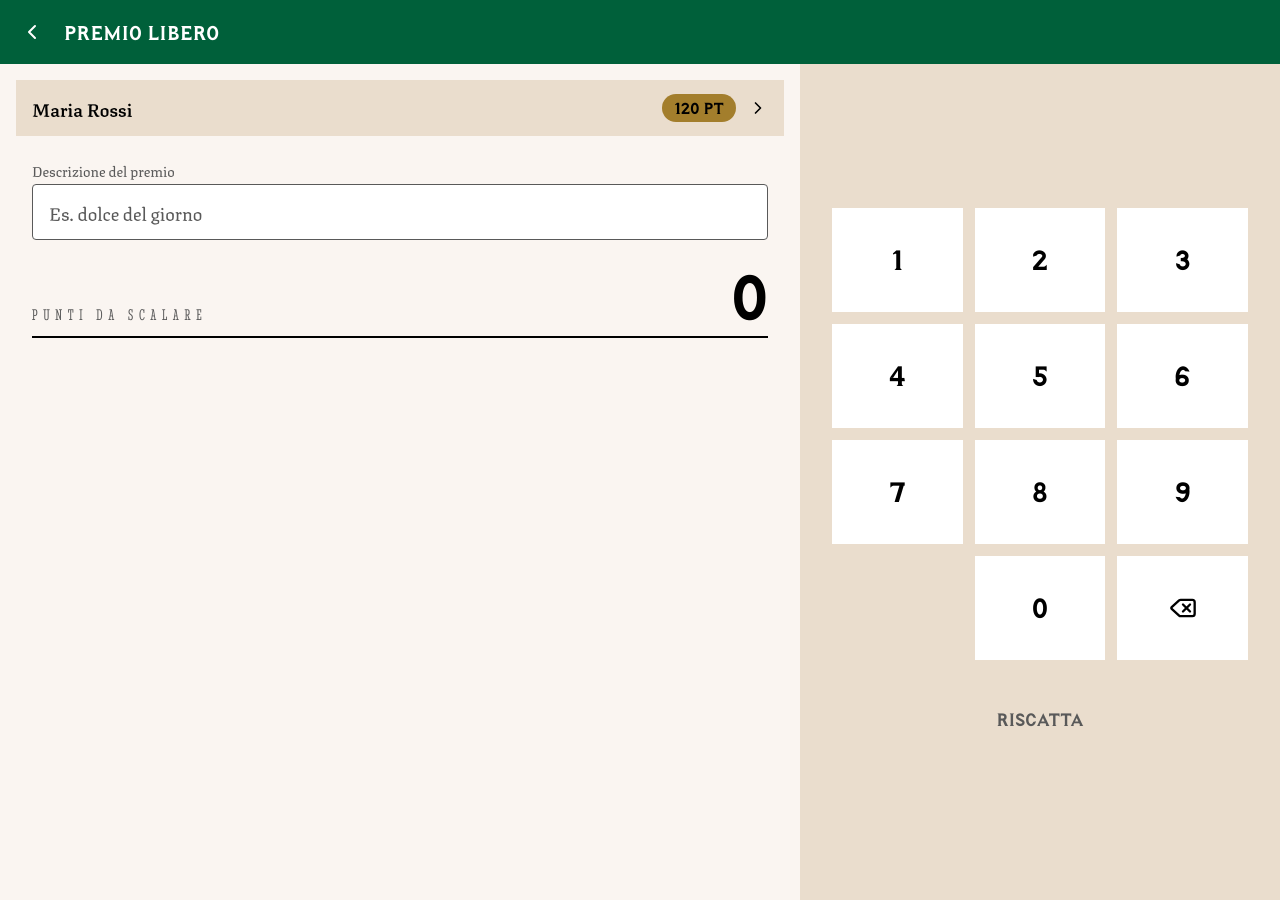
Test: FreeRewardForm: Premio libero › "Riscatta N punti" sends the trimmed description and the points once
This screenshot has width=1280, height=900.
Type "  Dolce del giorno  " into the field labelled "Descrizione del premio" at (400, 212), box [32,184,768,240]
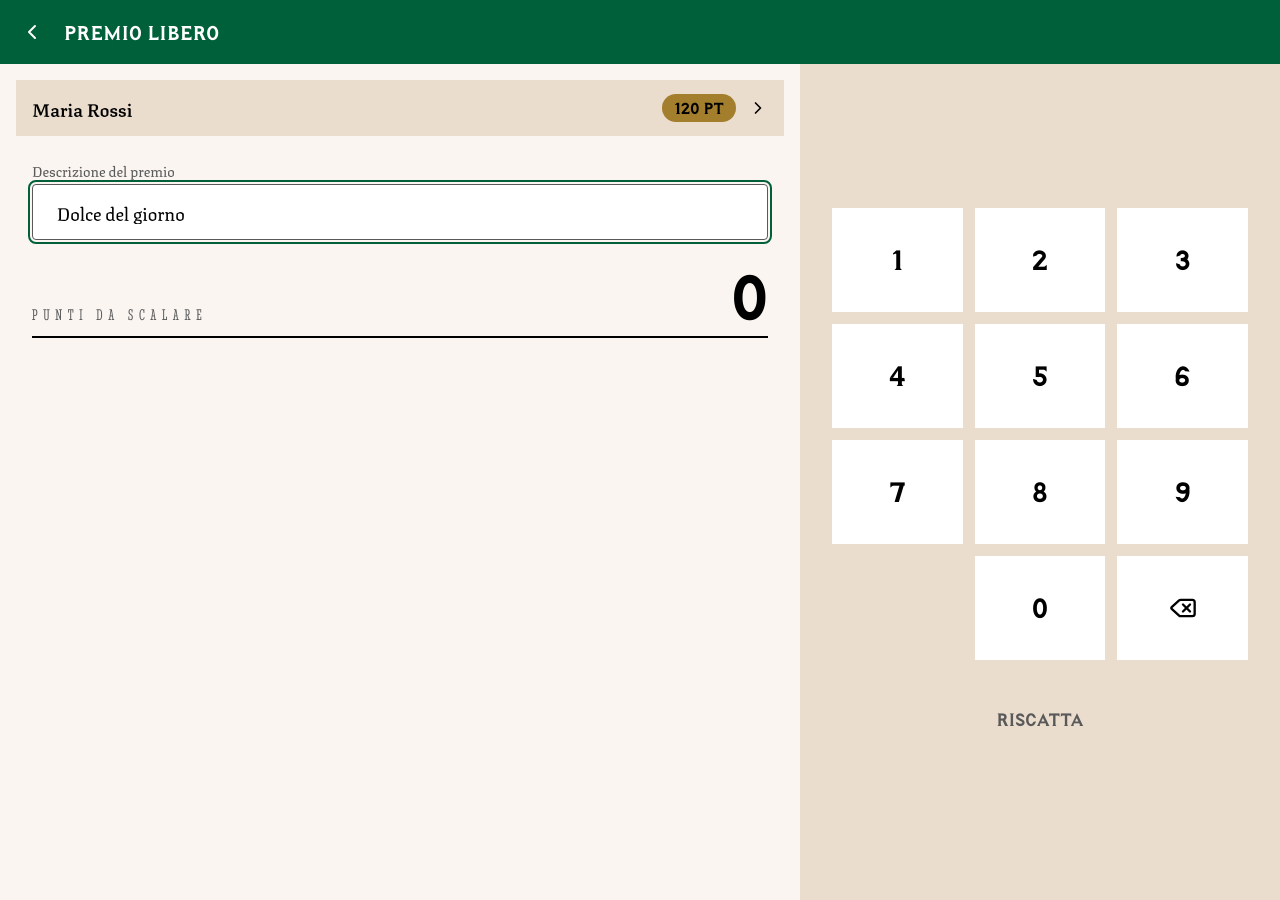
Click the button "1" at (897, 260), box [832,208,963,312]
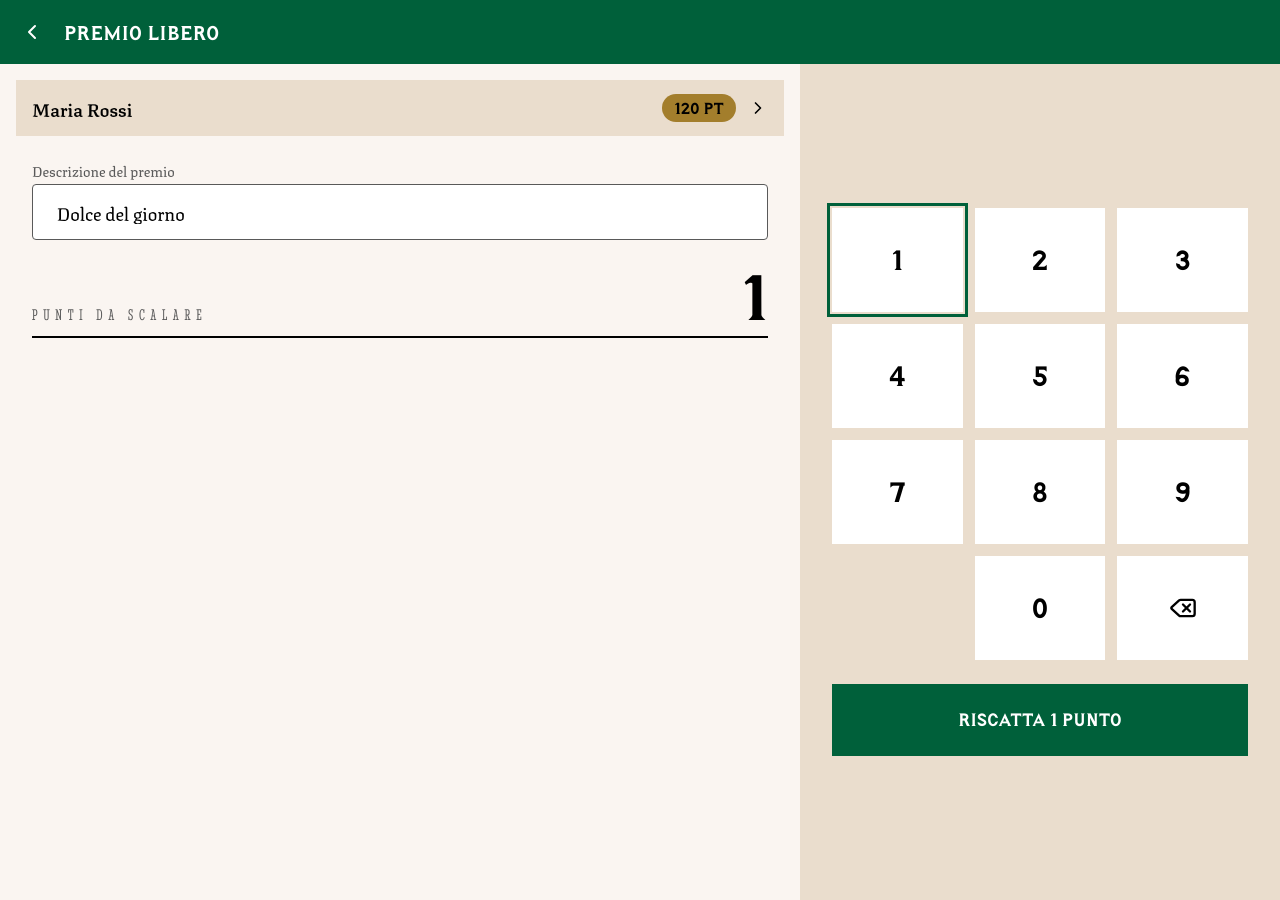
Click the button "0" at (1040, 608), box [975,556,1105,660]
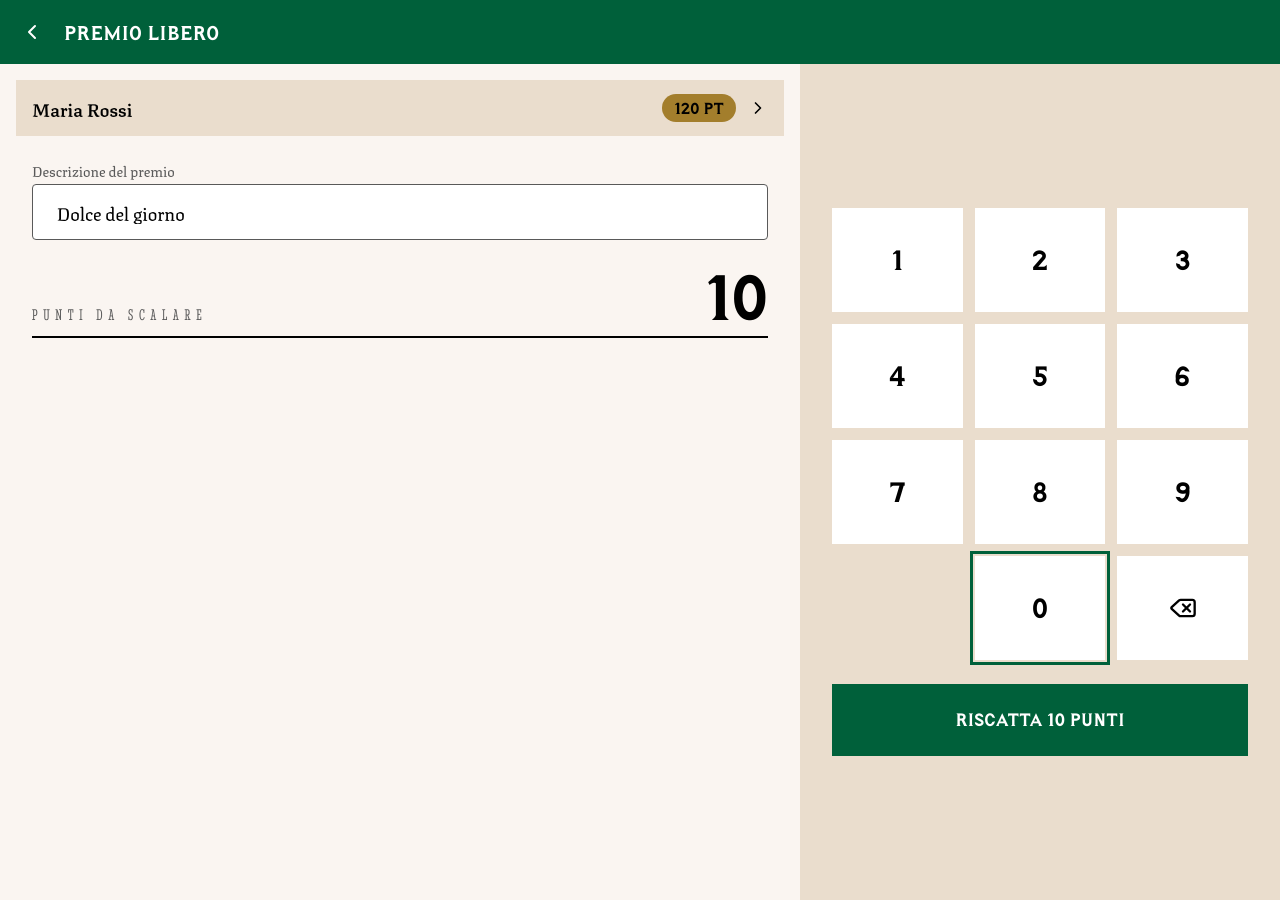
Click the button "0" at (1040, 608), box [975,556,1105,660]
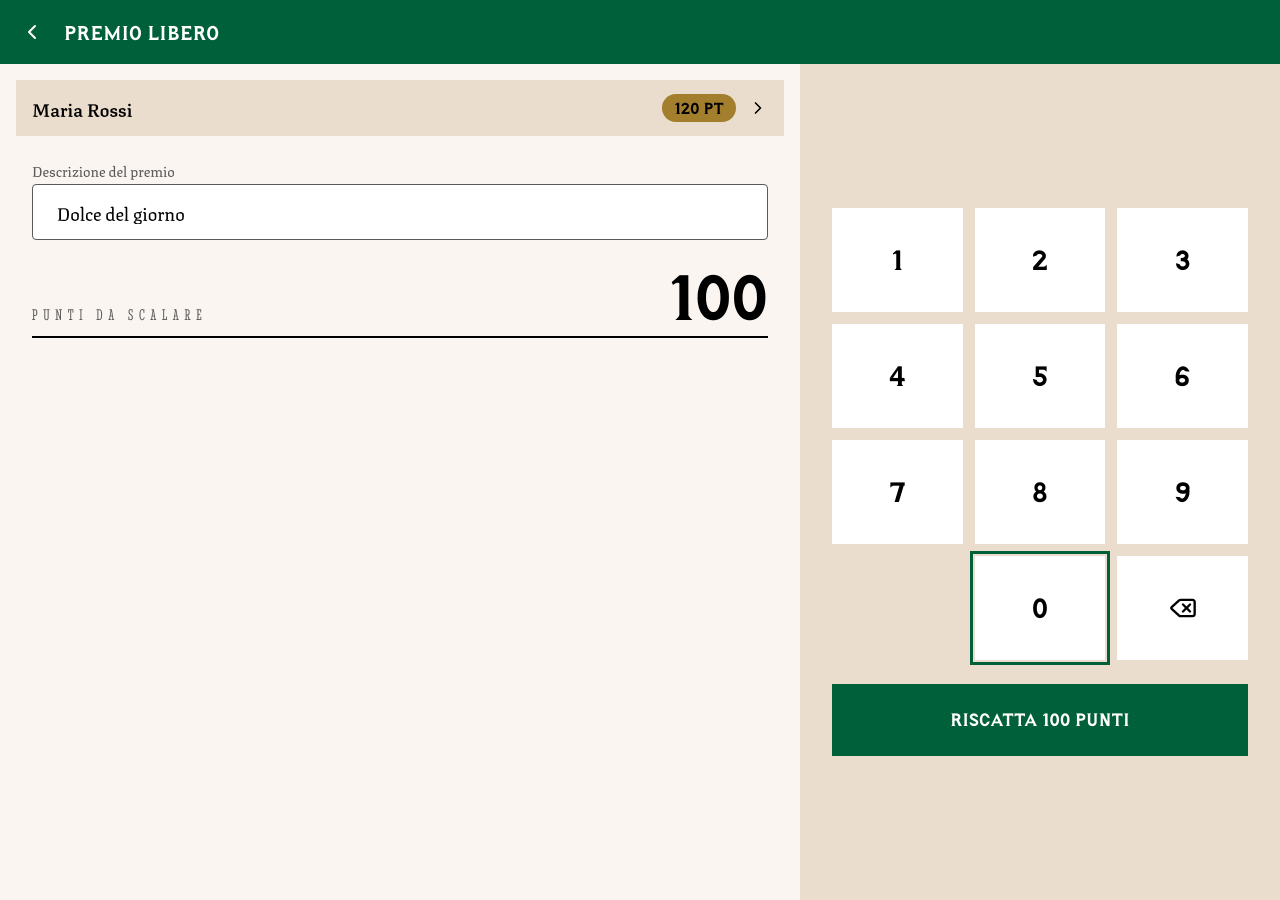
Double-click the button "Riscatta 100 punti" at (1040, 720), box [832,684,1248,756]
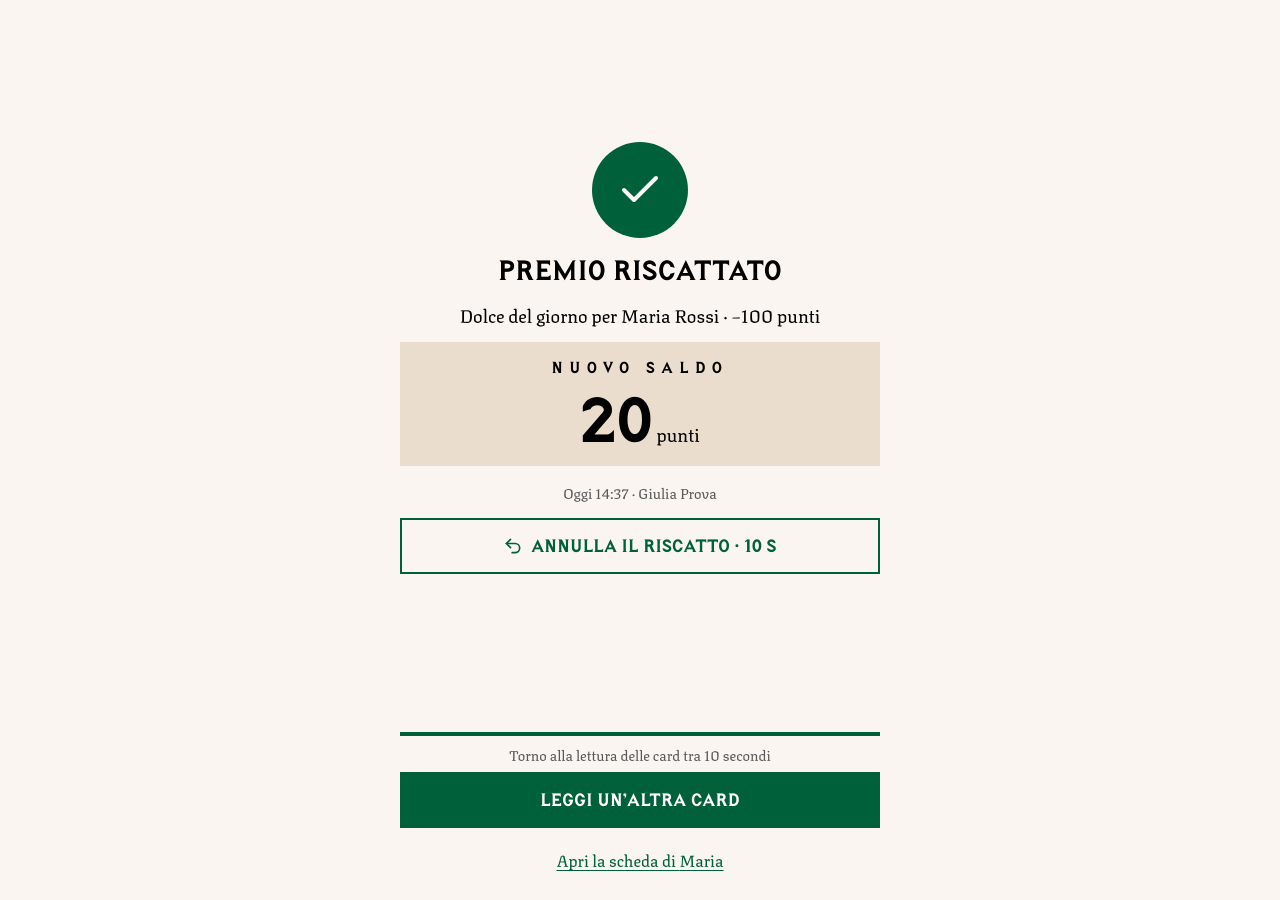
Check: the heading "Premio riscattato" is shown, box [498,254,782,286]
